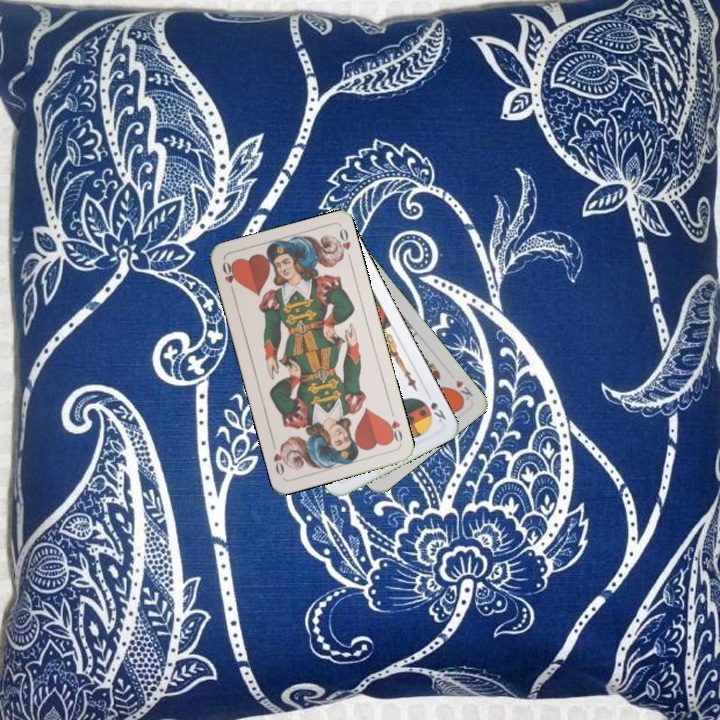HK: (448, 376, 476, 405)
HO: (382, 406, 405, 446), (218, 257, 240, 296)
SK: (426, 398, 449, 425)
